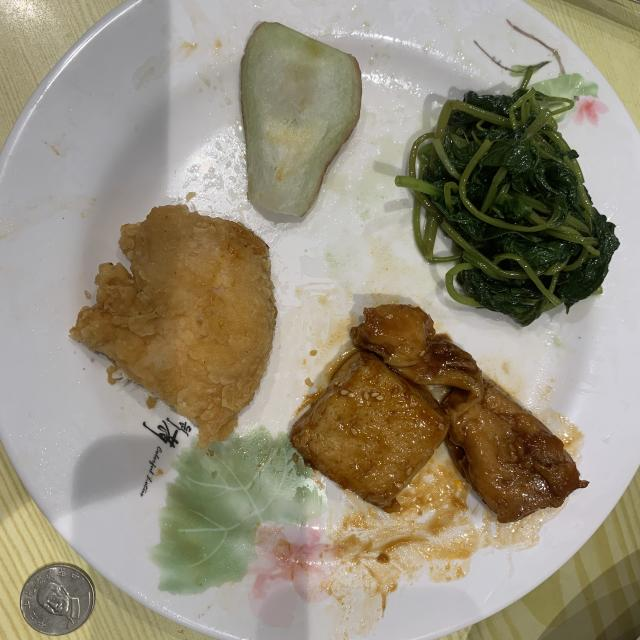coin: (20, 564, 95, 635)
creamy tofu: (290, 305, 588, 522)
fried chicken cutlet: (70, 205, 276, 449)
sweet potato leaves: (395, 70, 619, 325)
